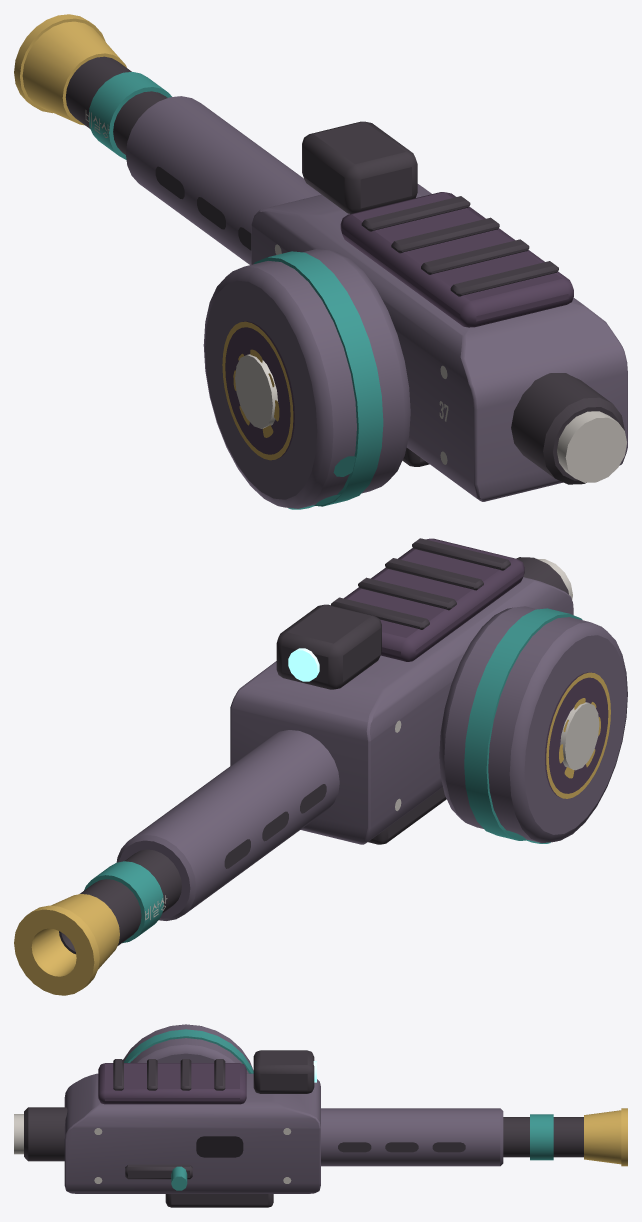
File: mount_mr37a.glb
3 renders of one model, top to bottom at view 1: azimuth 30°, elevation 25°; view 2: azimuth 150°, elevation 25°; view 3: azimuth 270°, elevation 25°, orthographic. The views are drawn at different scales.
Visible parts, largest first — view 1: body, body_fine; view 2: body, body_fine; view 3: body, body_fine, bolt.
Boxes of the visible parts, x1,y1,x2,y2 form: body: [14, 14, 627, 508]; body_fine: [85, 110, 448, 509]; body: [14, 538, 627, 995]; body_fine: [145, 672, 610, 920]; body: [14, 1024, 627, 1207]; body_fine: [94, 1128, 465, 1183]; bolt: [125, 1164, 192, 1190].
Bounding box in the file's own units: 0.307 × 0.238 × 0.91.
